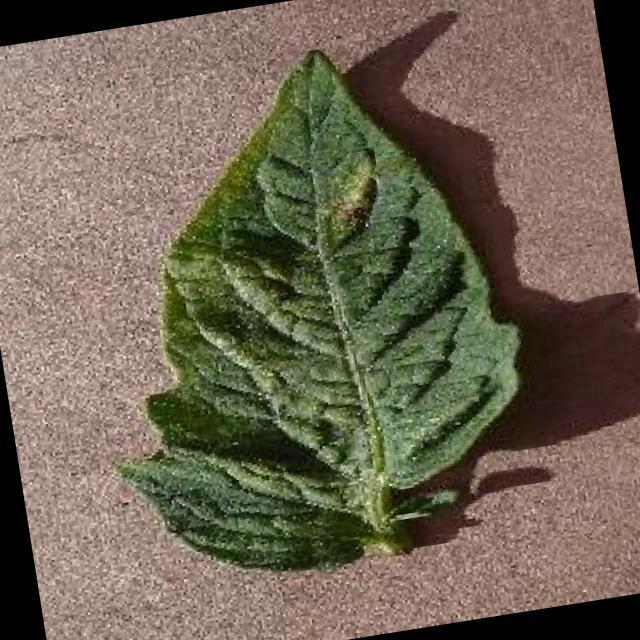Tomato spider mites leaf: (63, 24, 552, 600)
